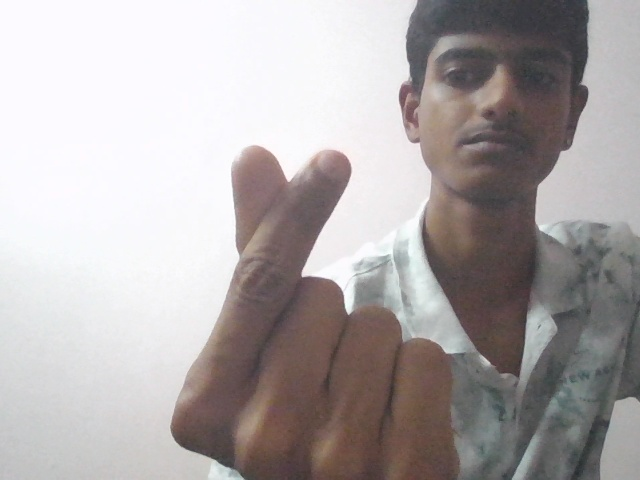iloveyou: (160, 144, 471, 479)
